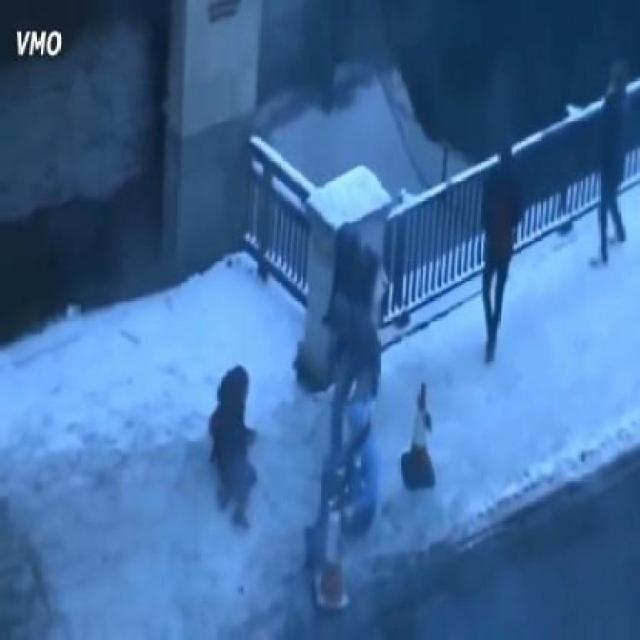fall: (318, 391, 378, 547), (211, 365, 263, 529)
